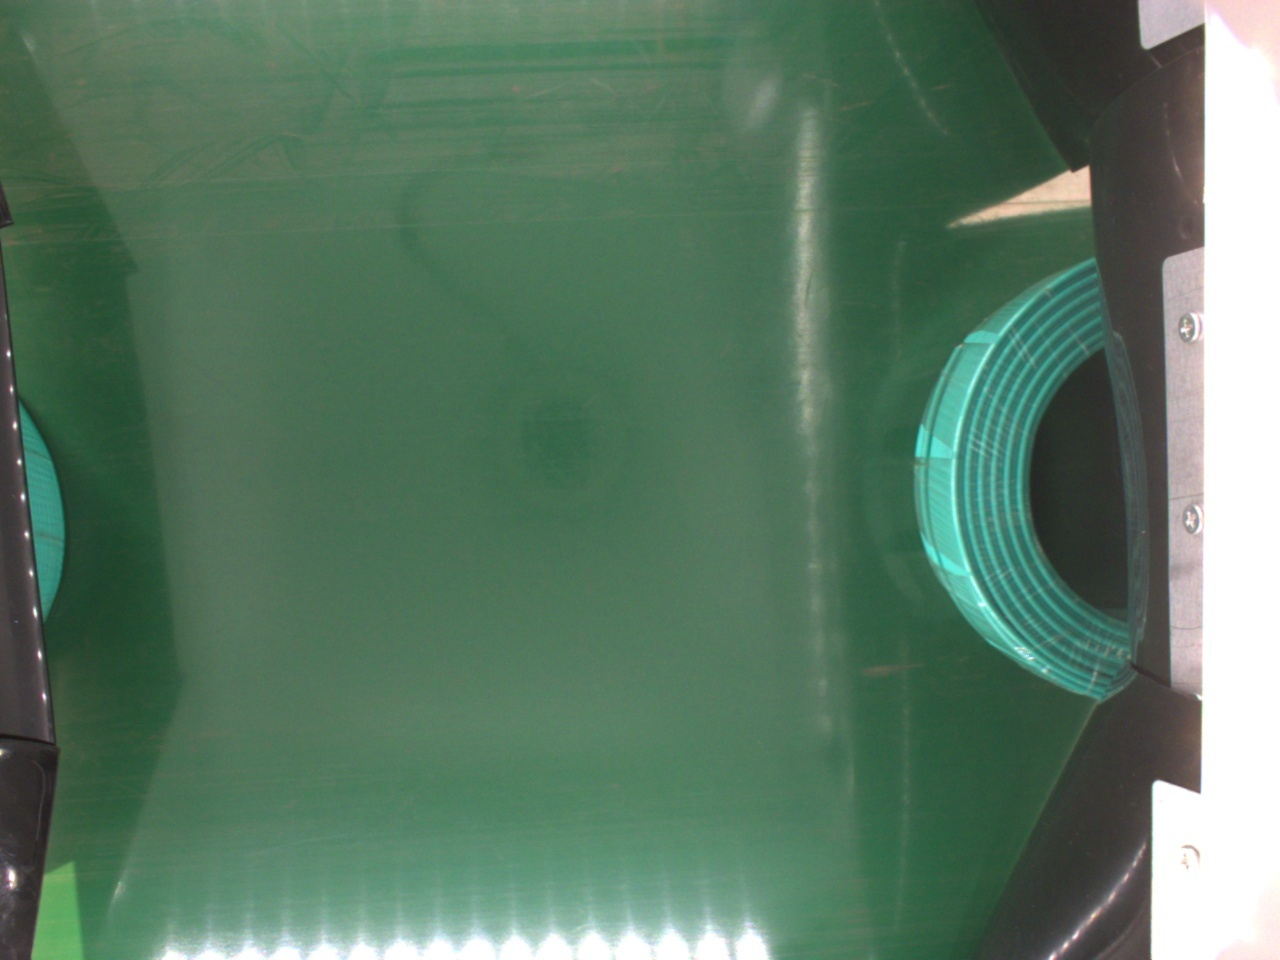green: (914, 253, 1148, 697)
